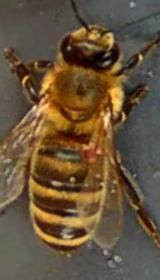varroa_mite: (74, 128, 113, 170)
